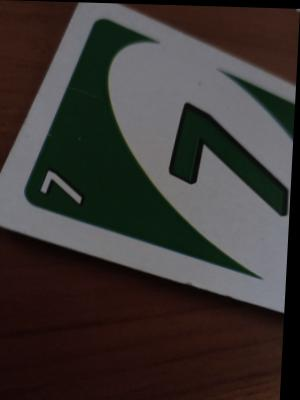num_7: (33, 164, 91, 209)
